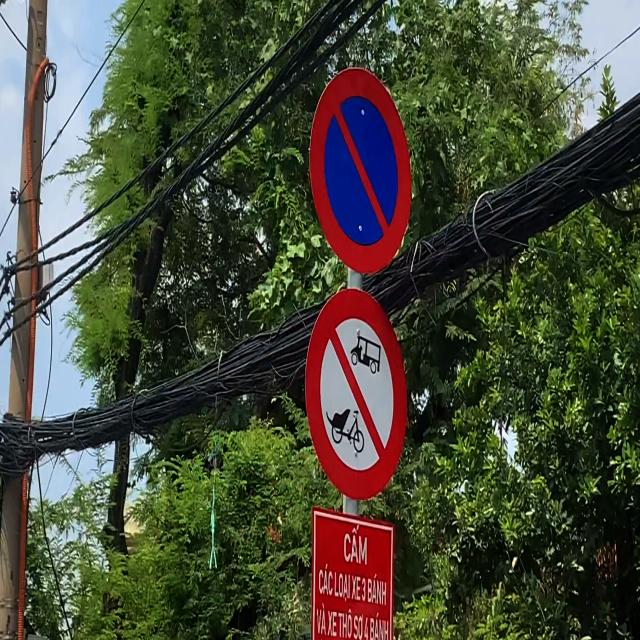Cam con lai: (303, 285, 410, 502)
Cam do: (308, 66, 412, 273)
